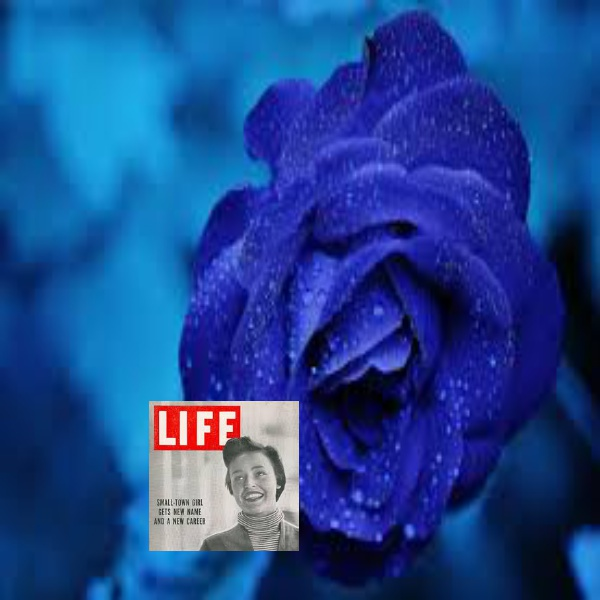time_cover: (150, 399, 304, 555)
